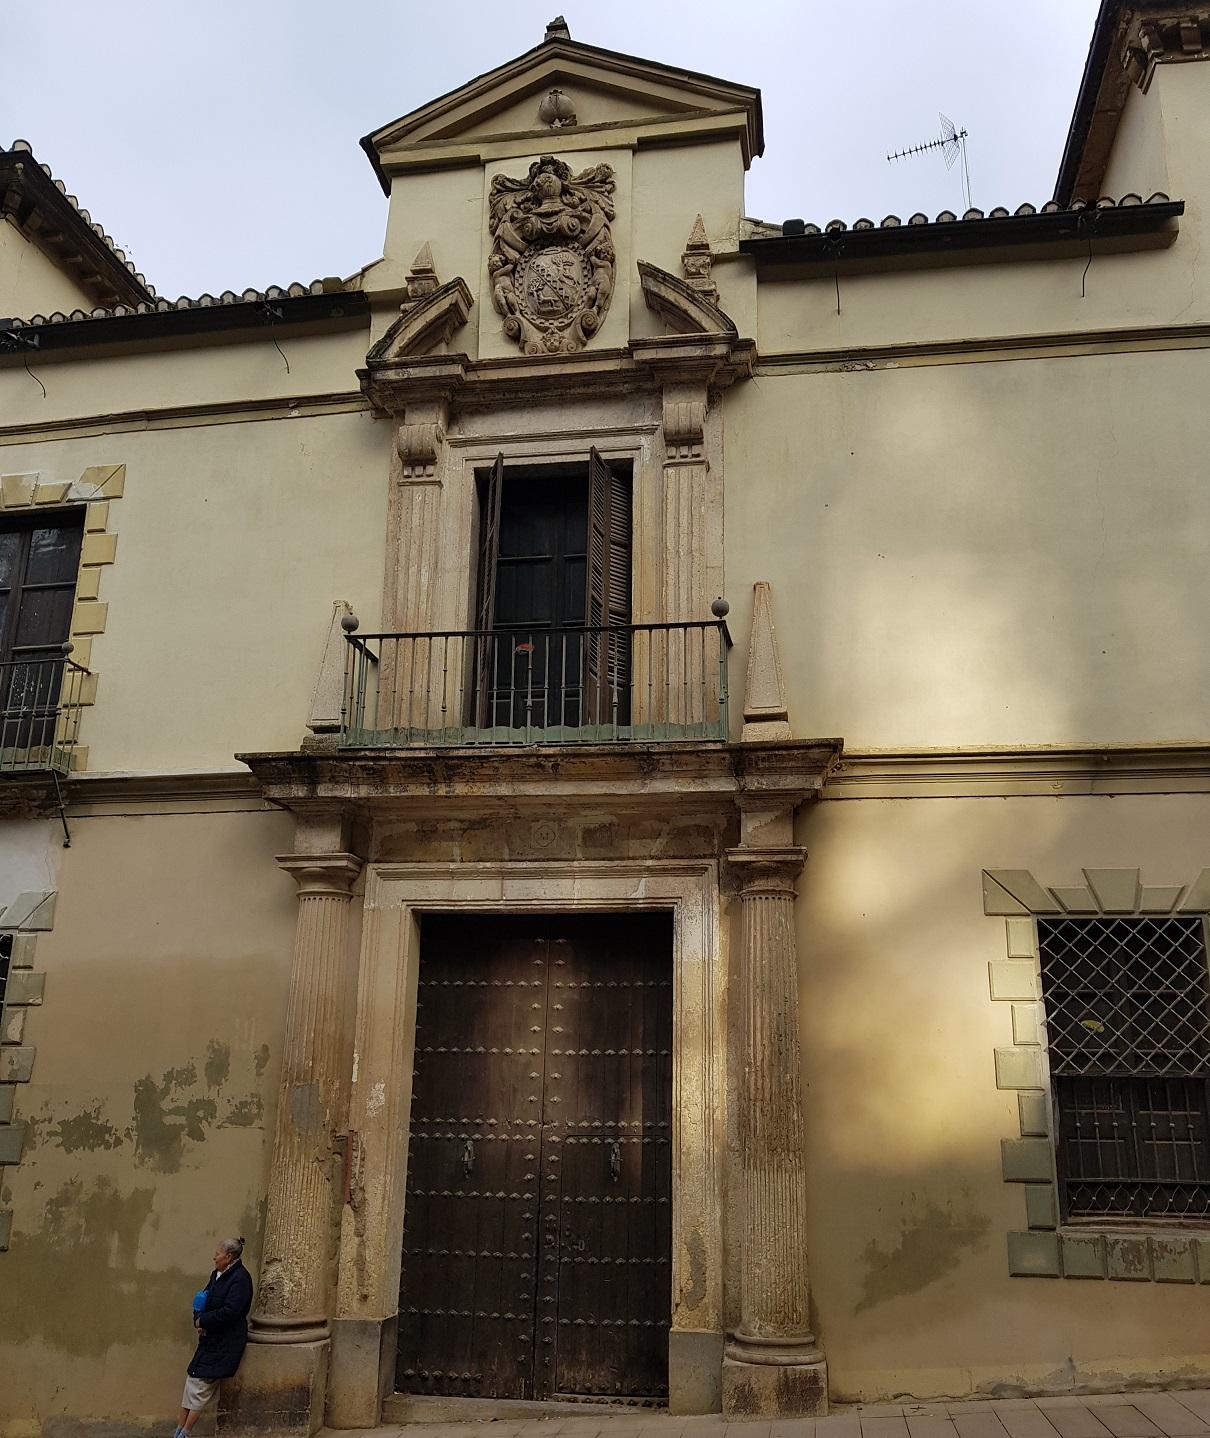fronton: (353, 32, 769, 164)
fronton-partido: (359, 258, 748, 383)
vano-adintelado: (366, 883, 691, 1413), (443, 433, 655, 738)
